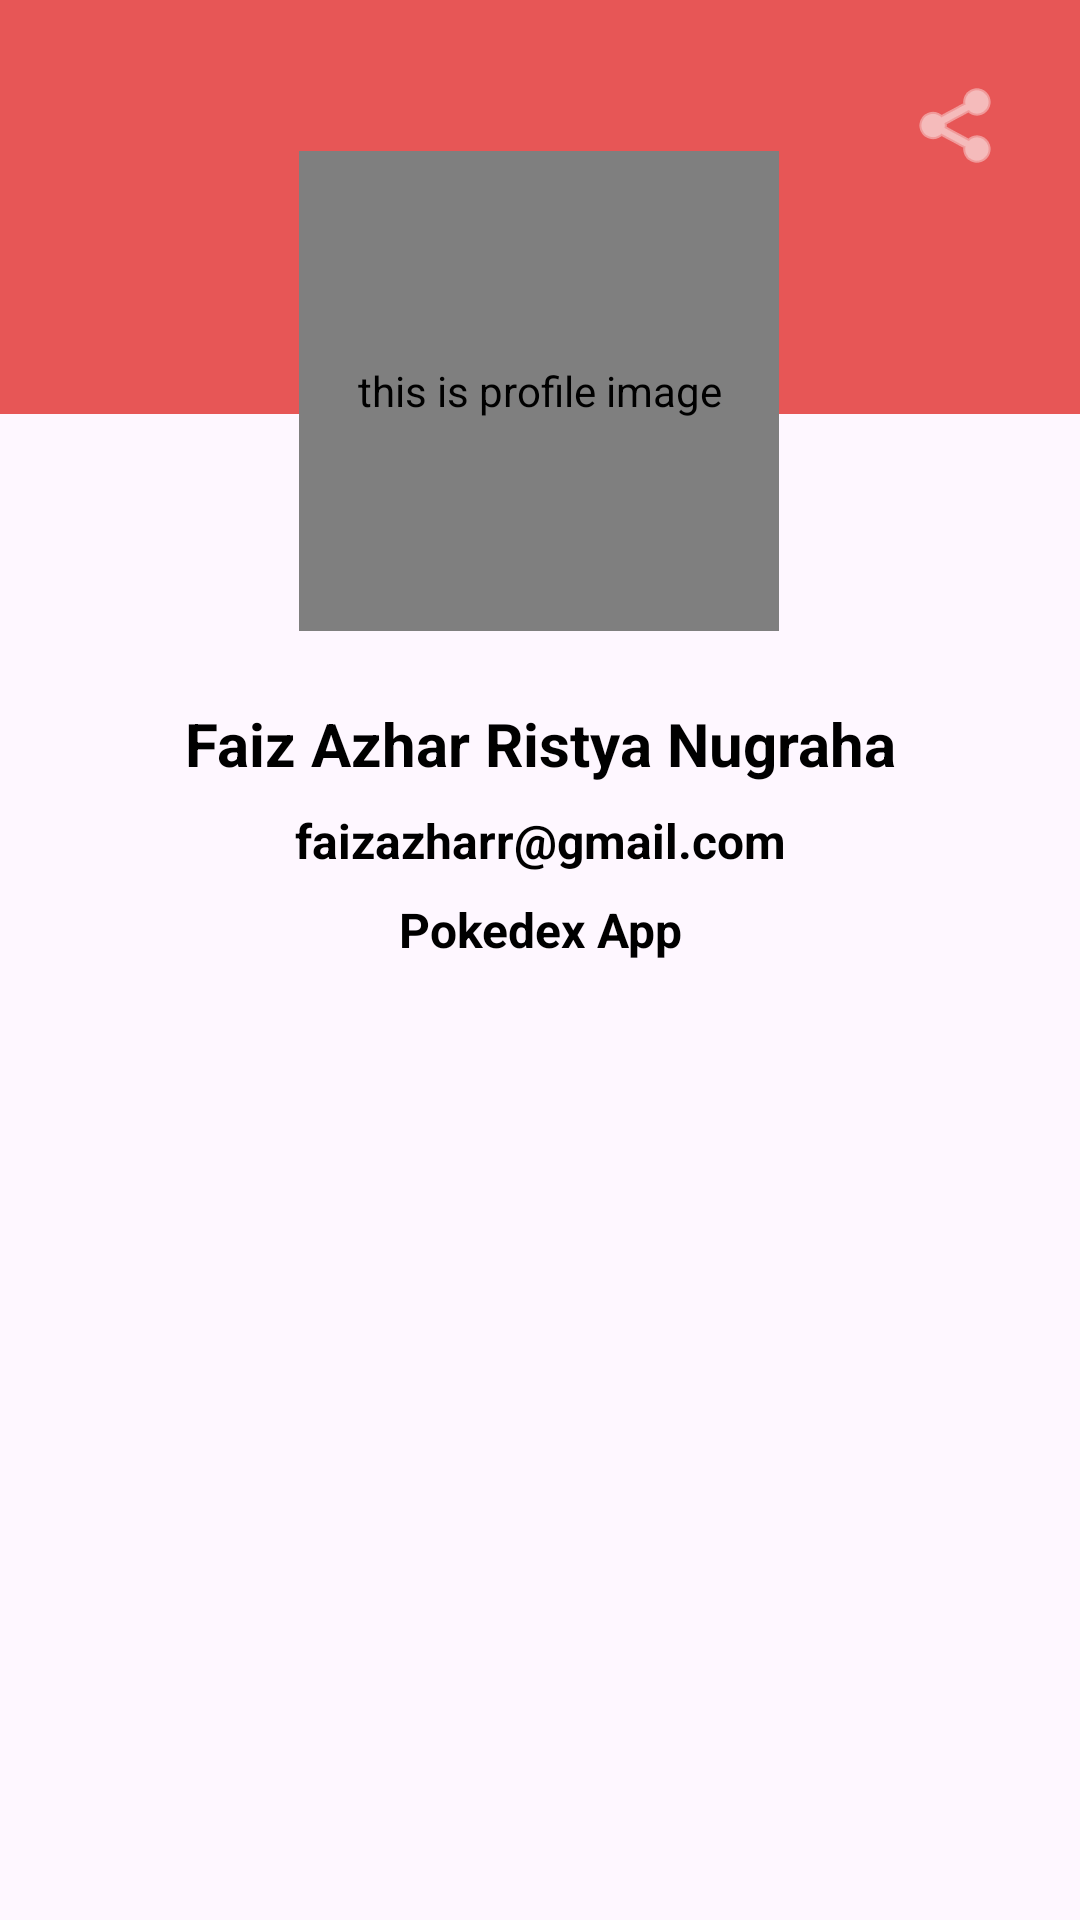

Icons on this 1080 × 1920 Android screen, each with the point to tap as (x,y):
icon Share: (955,125)
